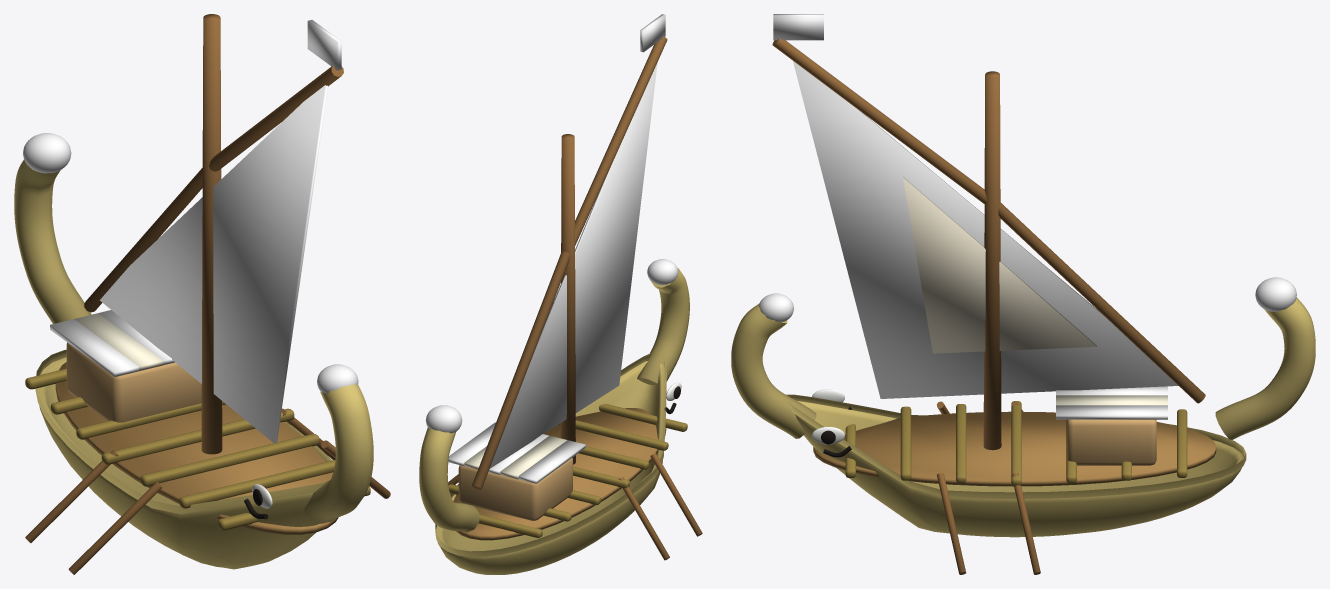
File: barco_desierto.glb
3 renders of one model, left to right at view 1: azimuth 30°, elevation 25°; view 2: azimuth 150°, elevation 25°; view 3: azimuth 270°, elevation 25°, orthographic. The views are drawn at different scales.
Visible parts, largest first — view 1: Barco_desierto_fijo; view 2: Barco_desierto_fijo; view 3: Barco_desierto_fijo.
Part boxes in pixels (box(x1,y1,x2,y2)): Barco_desierto_fijo: box(14, 14, 390, 574); Barco_desierto_fijo: box(419, 14, 702, 574); Barco_desierto_fijo: box(731, 14, 1315, 574).
Size of the model in its own units: 2.14 by 3.79 by 3.92.
2 materials, 2 textured.
